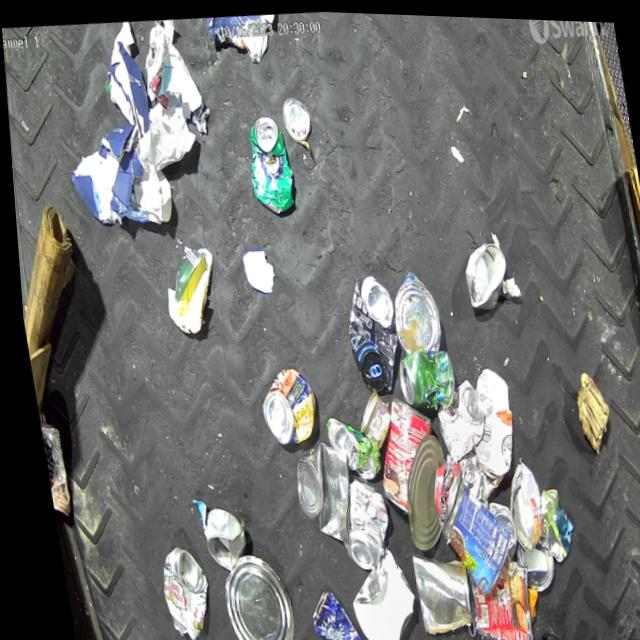can: (423, 473, 508, 596), (361, 390, 438, 514), (334, 269, 401, 391), (281, 435, 353, 546), (206, 546, 288, 640), (387, 430, 449, 549), (455, 555, 528, 640), (325, 472, 387, 569), (146, 541, 206, 640), (401, 545, 467, 634), (238, 110, 294, 213), (249, 362, 314, 444), (423, 373, 482, 460), (381, 264, 439, 351), (494, 455, 539, 550), (387, 343, 450, 409), (454, 230, 508, 306), (317, 411, 374, 480), (295, 581, 356, 640), (191, 505, 241, 572), (32, 421, 65, 517), (346, 387, 388, 448), (504, 536, 548, 590), (479, 495, 510, 556), (277, 92, 311, 139)
